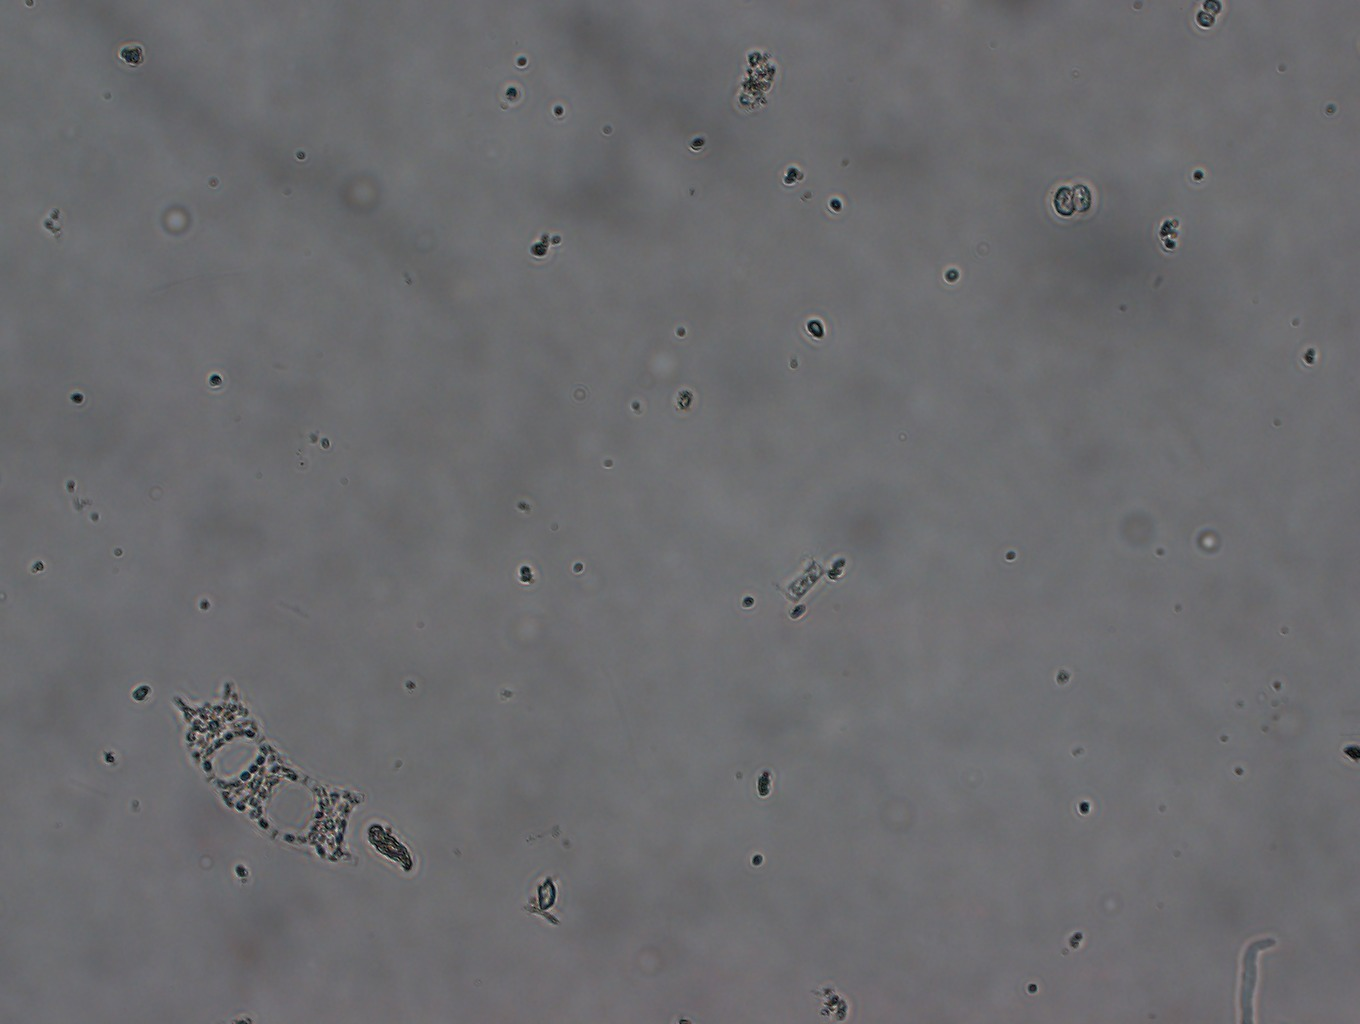eucampia: (161, 673, 366, 869)
